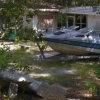Boat: (37, 21, 97, 55)
